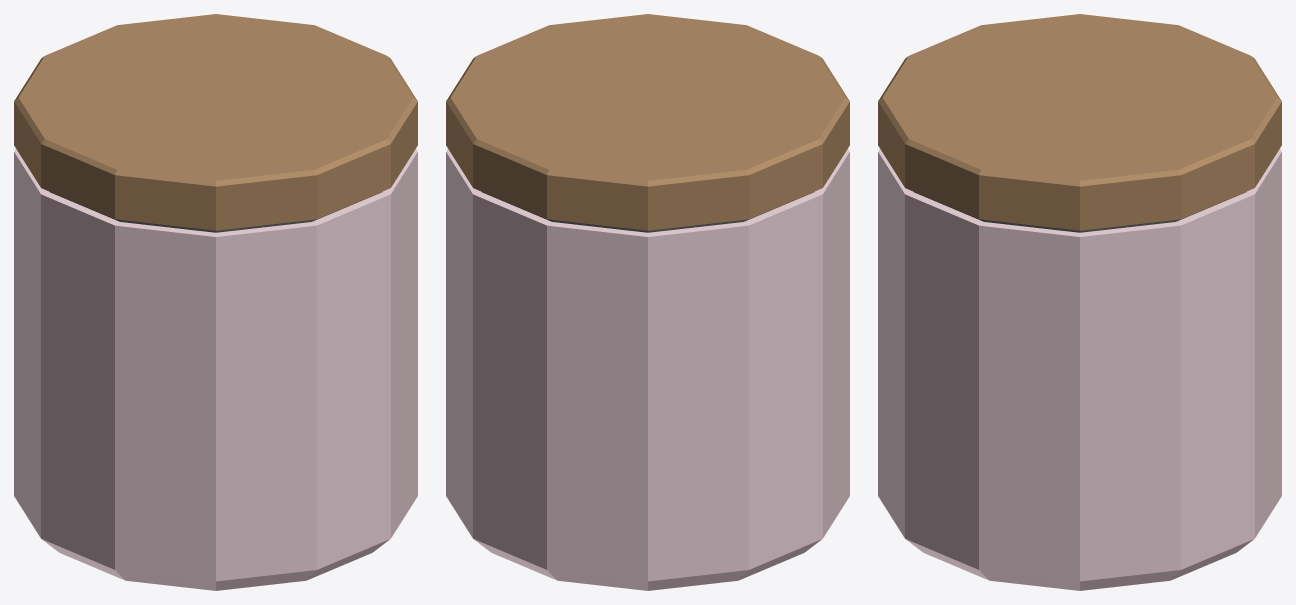
Rendered from KitchenProps_25.fbx.
The picture shows the model from 3 angles, left to right: view 1: azimuth 30°, elevation 25°; view 2: azimuth 150°, elevation 25°; view 3: azimuth 270°, elevation 25°; orthographic projection.
Parts seen in each view (by area): view 1: KitchenProps_25; view 2: KitchenProps_25; view 3: KitchenProps_25.
Boxes of the visible parts, x1,y1,x2,y2 form: KitchenProps_25: [14, 14, 417, 590]; KitchenProps_25: [446, 14, 849, 590]; KitchenProps_25: [878, 14, 1281, 590].
Size of the model in its own units: 9.62 by 10.97 by 9.62.
